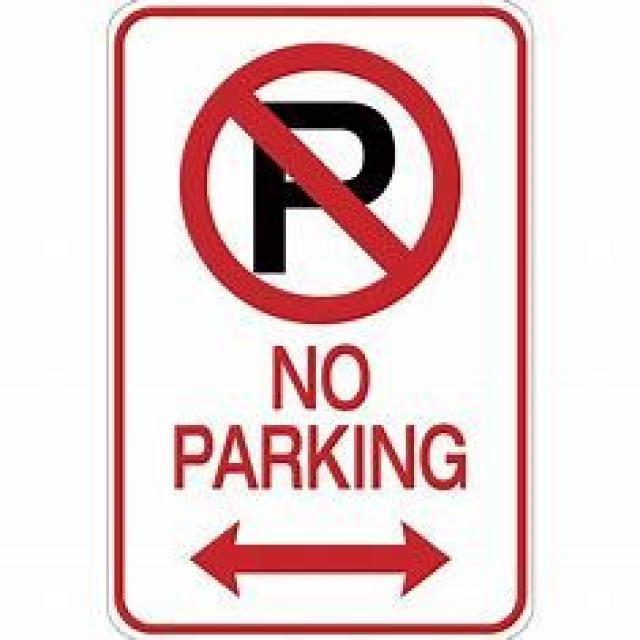no parking: (175, 39, 466, 329)
